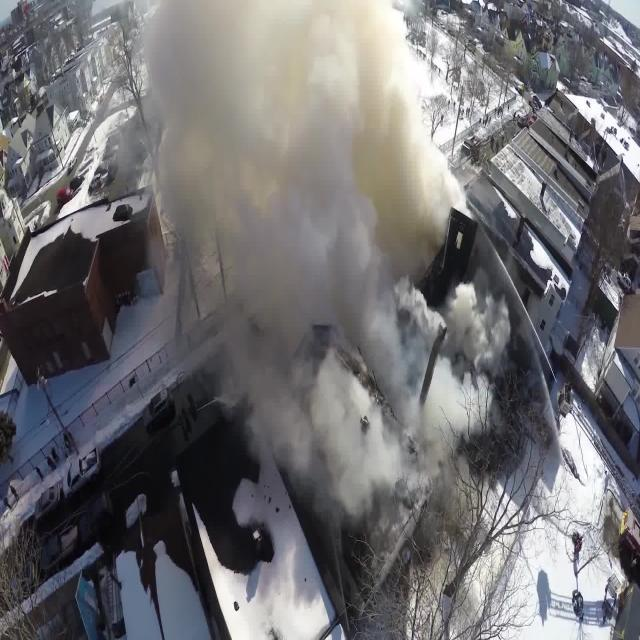Smoke: (162, 0, 445, 420)
